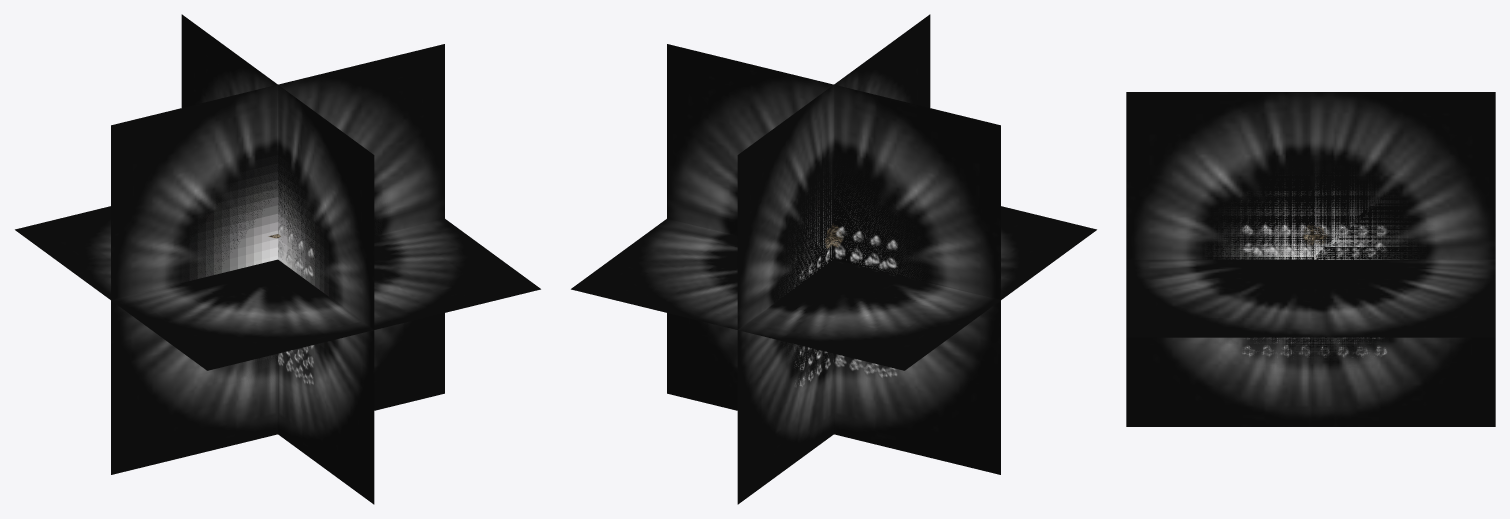
The model's file is steamtankimpact.glb.
The picture shows the model from 3 angles, left to right: view 1: azimuth 30°, elevation 25°; view 2: azimuth 150°, elevation 25°; view 3: azimuth 270°, elevation 25°; orthographic projection. The views are drawn at different scales.
Visible parts, largest first — view 1: mesh; view 2: mesh; view 3: mesh.
Part boxes in pixels (x1=…): mesh: x1=15, y1=14, x2=540, y2=504; mesh: x1=571, y1=14, x2=1096, y2=504; mesh: x1=1126, y1=92, x2=1495, y2=426.
Bounding box in the file's own units: 4.69 × 4.69 × 4.69.
Materials: 5 (5 with a texture image).
